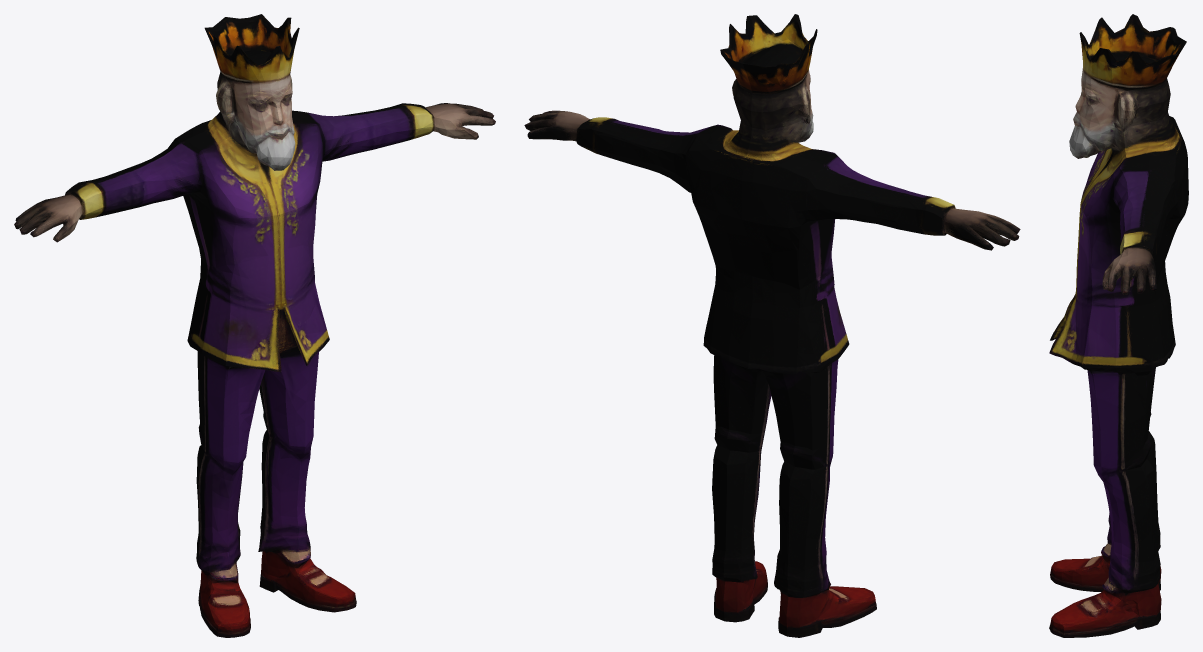
Rendered from king_t.glb.
3 views of the same model, side by side, from view 1: azimuth 30°, elevation 25°; view 2: azimuth 150°, elevation 25°; view 3: azimuth 270°, elevation 25° (orthographic). The views are drawn at different scales.
Visible parts, largest first — view 1: world; view 2: world; view 3: world.
Boxes of the visible parts, <box> form: world: <box>14,14,495,637</box>; world: <box>524,14,1020,637</box>; world: <box>1049,14,1188,637</box>.
Size of the model in its own units: 0.8732 by 1 by 0.2215.
1 material, 1 textured.
